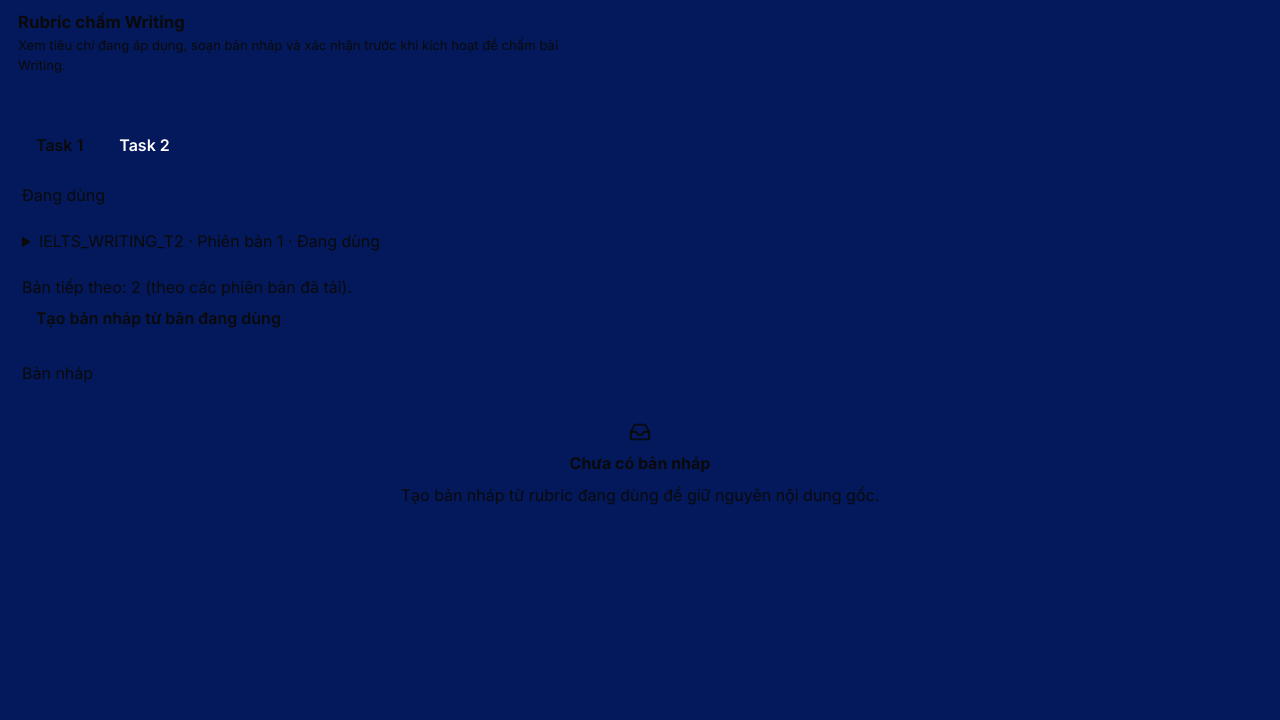
RubricsPage › does not save a criterion without any band descriptors
Click the button "Tạo bản nháp từ bản đang dùng".
click(158, 318)  # box [22,299,295,337]
(page scrolled)
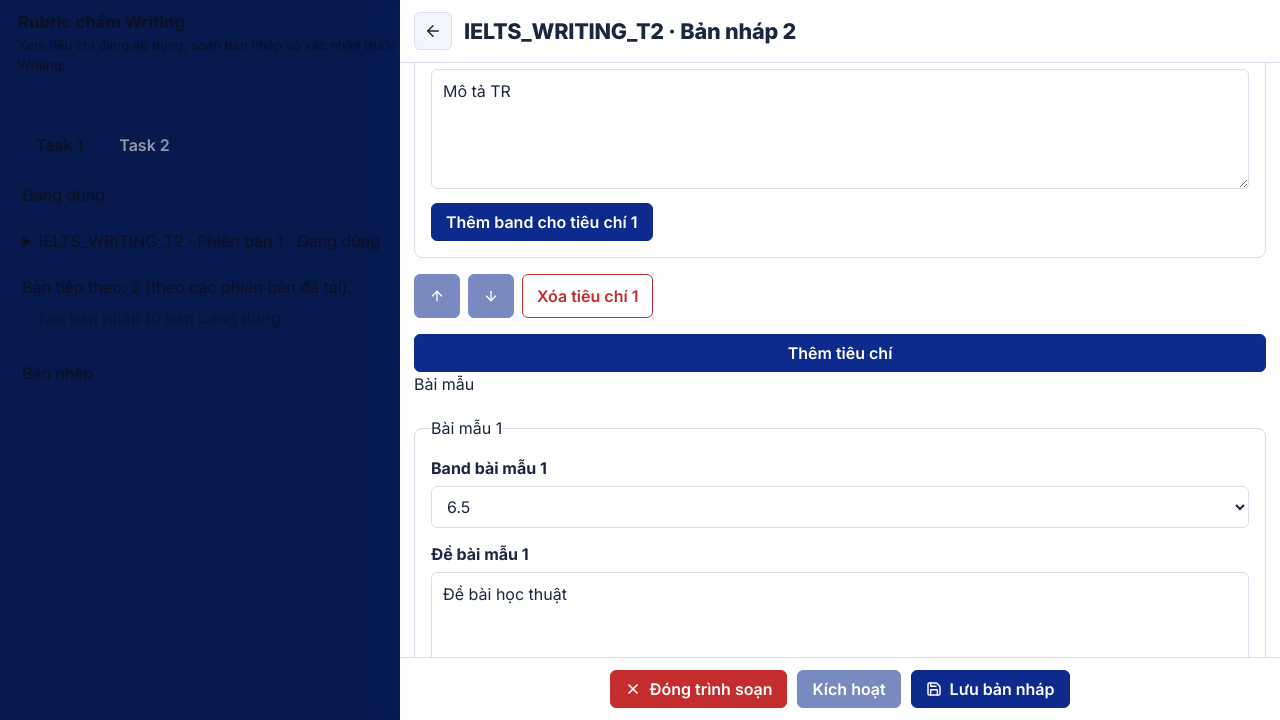
Submit the form named "Soạn rubric"
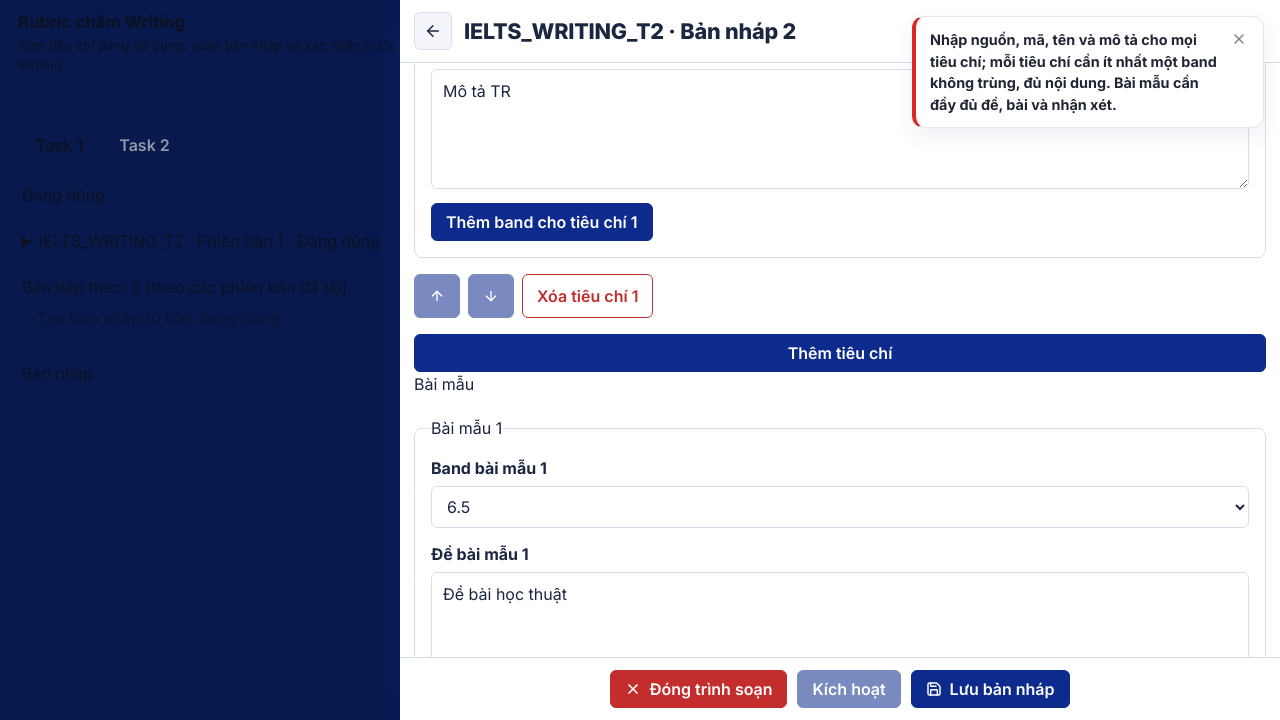
Check: the message shows "mỗi tiêu chí cần ít nhất một band không trùng", box [930,31,1217,113]
